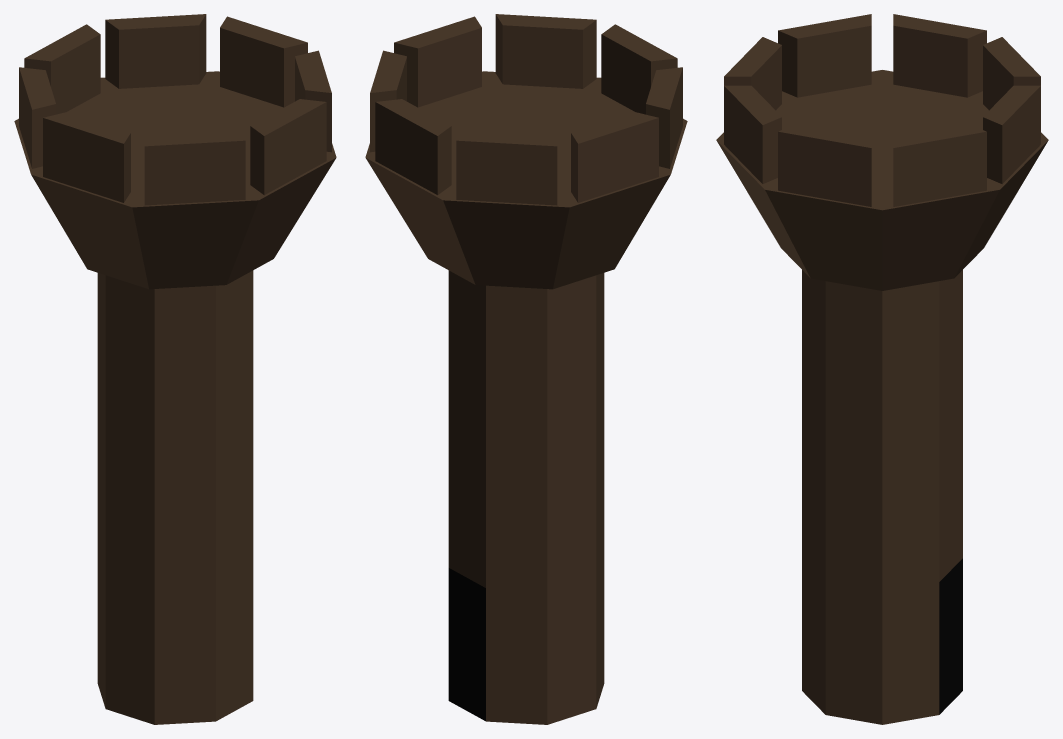
Rendered from DefenseTower.fbx.
The picture shows the model from 3 angles, left to right: view 1: azimuth 30°, elevation 25°; view 2: azimuth 150°, elevation 25°; view 3: azimuth 270°, elevation 25°; orthographic projection.
Visible parts, largest first — view 1: DefenseTowerRight; view 2: DefenseTowerRight; view 3: DefenseTowerRight.
Part boxes in pixels (left/top/right/bottom): DefenseTowerRight: left=14, top=14, right=336, bottom=724; DefenseTowerRight: left=365, top=14, right=687, bottom=724; DefenseTowerRight: left=716, top=14, right=1048, bottom=724.
Bounding box in the file's own units: 3.11 × 6.28 × 3.11.
